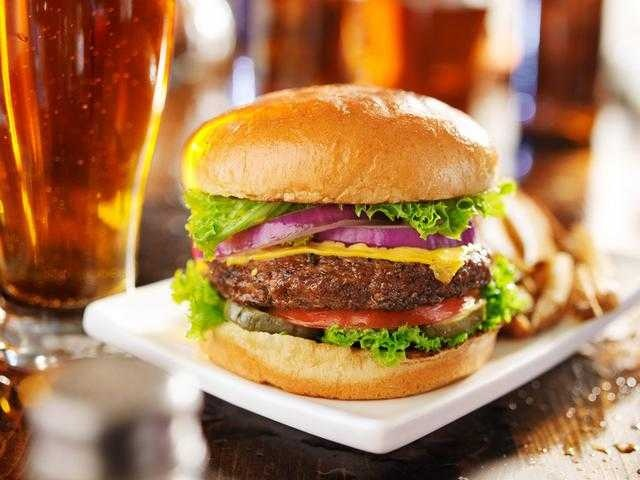hamburger: (176, 75, 574, 395)
